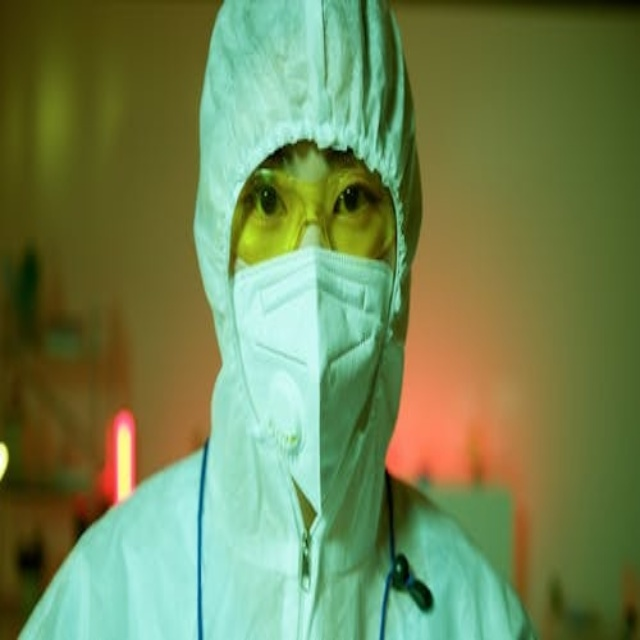Gafas: (231, 160, 397, 268)
Mascara: (228, 244, 400, 551)
